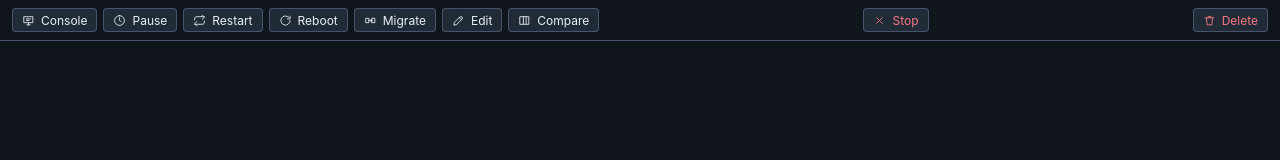
Test case: Stop asks about {}, not about deleting
Click the button "Stop" at {"x": 896, "y": 20}, box [864,8,929,32]
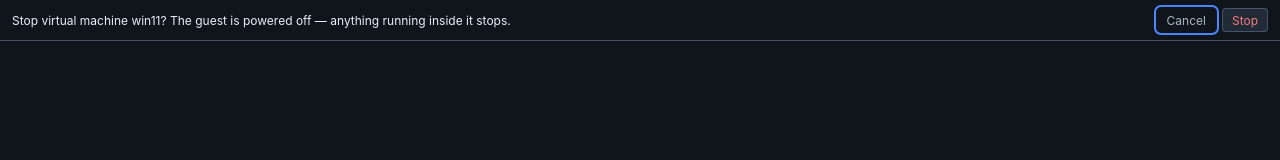
Expected: the text "Stop virtual machine win11?" is shown, [12,12,511,28]
